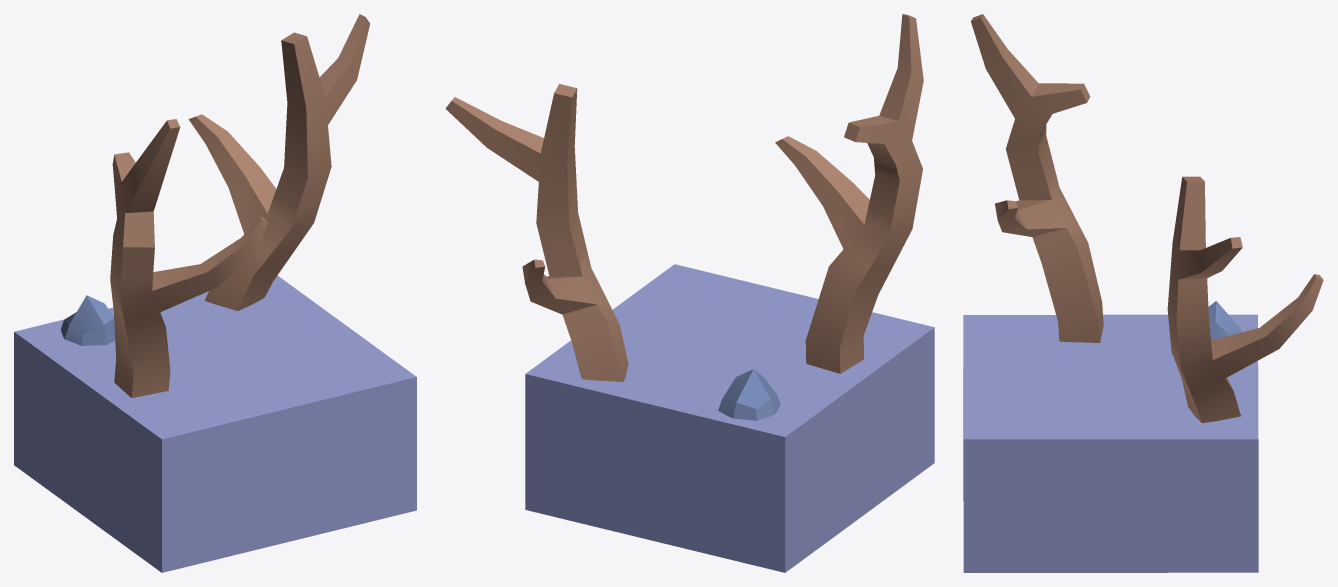
The model's file is treesSmall.fbx.
The picture shows the model from 3 angles, left to right: view 1: azimuth 30°, elevation 25°; view 2: azimuth 150°, elevation 25°; view 3: azimuth 270°, elevation 25°; orthographic projection.
Parts seen in each view (by area): view 1: treesSmall; view 2: treesSmall; view 3: treesSmall.
Boxes of the visible parts, x1,y1,x2,y2 form: treesSmall: [14, 14, 416, 572]; treesSmall: [445, 14, 934, 572]; treesSmall: [963, 14, 1323, 572].
Bounding box in the file's own units: 280 × 331 × 245.
